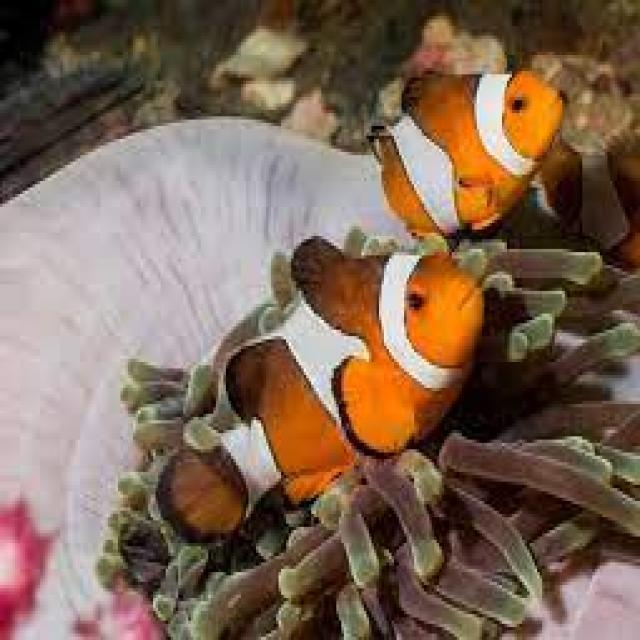ClownFish: (158, 237, 483, 537), (369, 71, 567, 230)
